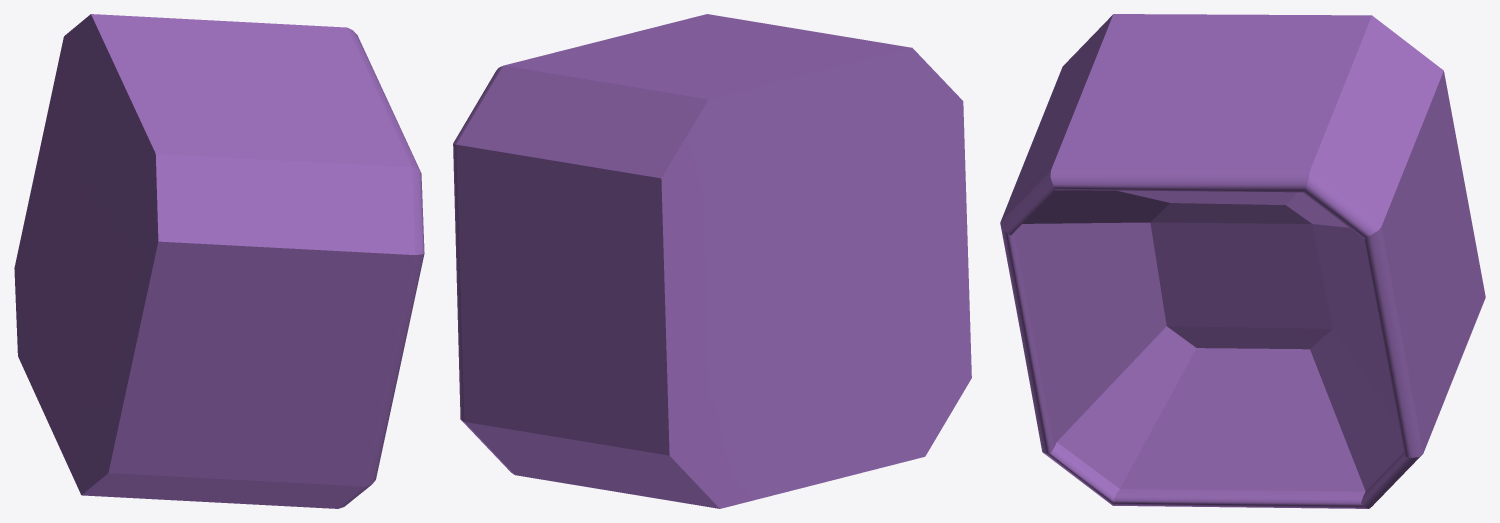
File: TR5_8shapes_Square_Classic_Metal.001 3.glb
The picture shows the model from 3 angles, left to right: view 1: azimuth 30°, elevation 25°; view 2: azimuth 150°, elevation 25°; view 3: azimuth 270°, elevation 25°; orthographic projection. The views are drawn at different scales.
Visible parts, largest first — view 1: TR5_8shapes_Square_Classic_Metal.001; view 2: TR5_8shapes_Square_Classic_Metal.001; view 3: TR5_8shapes_Square_Classic_Metal.001.
Boxes of the visible parts, x1=… form: TR5_8shapes_Square_Classic_Metal.001: x1=14, y1=14, x2=424, y2=508; TR5_8shapes_Square_Classic_Metal.001: x1=453, y1=14, x2=971, y2=508; TR5_8shapes_Square_Classic_Metal.001: x1=1000, y1=14, x2=1485, y2=508.
Bounding box in the file's own units: 0.4911 × 0.5626 × 0.5751.
